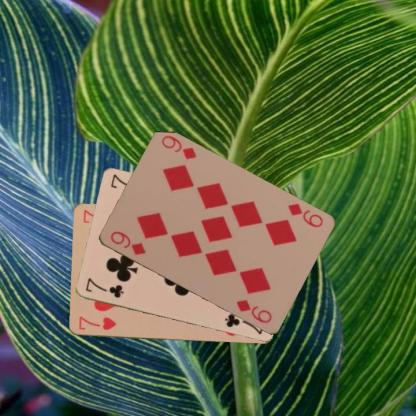7c: (82, 275, 124, 299)
7h: (76, 314, 118, 332)
9d: (107, 228, 147, 257), (284, 201, 324, 230)
